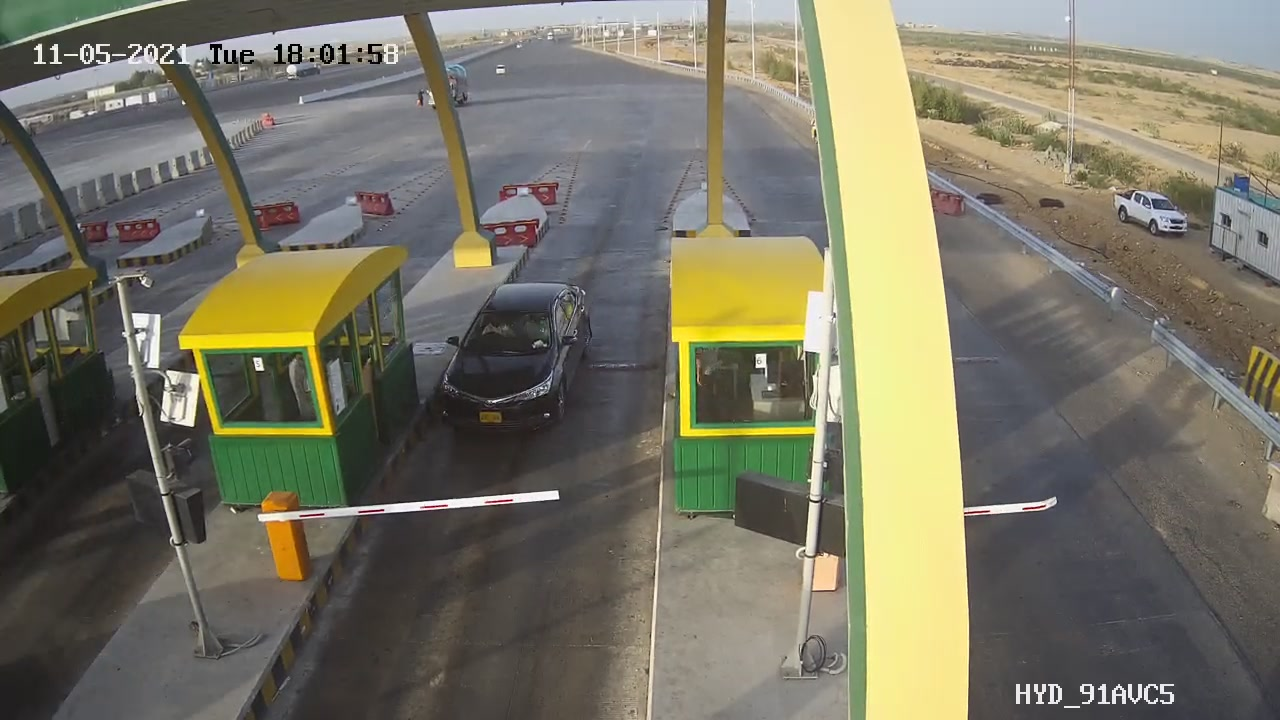F1: (424, 269, 603, 452)
